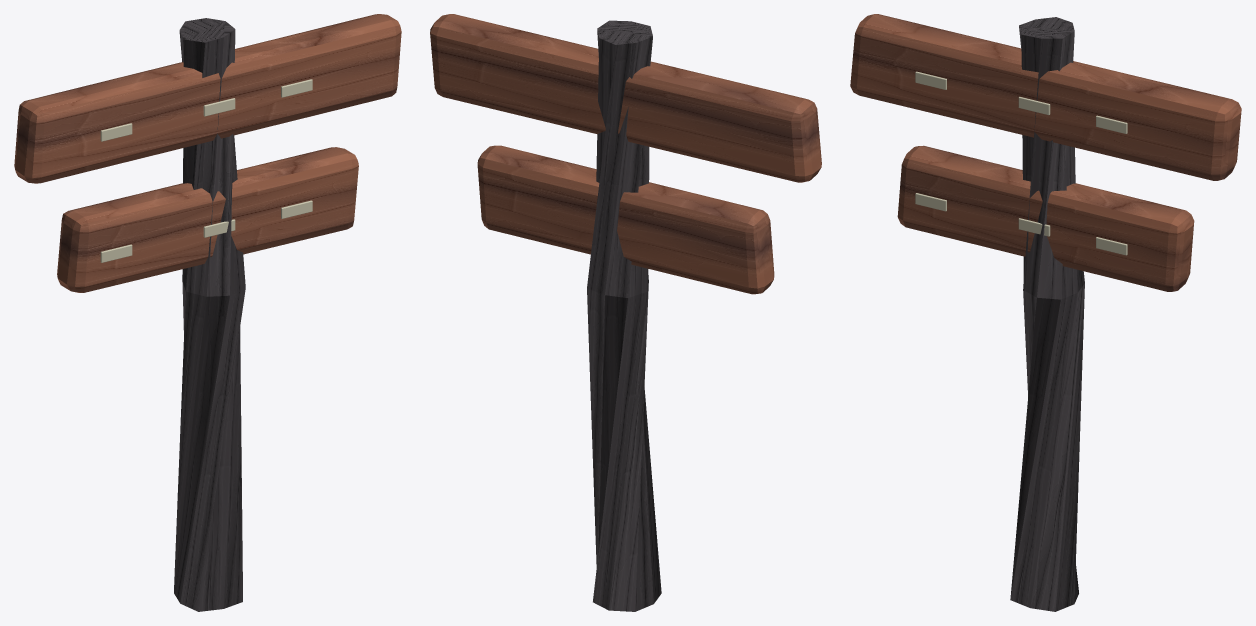
File: Trail_Sign_Barren.glb
3 renders of one model, left to right at view 1: azimuth 30°, elevation 25°; view 2: azimuth 150°, elevation 25°; view 3: azimuth 330°, elevation 25°, orthographic.
Parts seen in each view (by area): view 1: Structure; view 2: Structure; view 3: Structure.
Boxes of the visible parts, <box> form: Structure: <box>14,14,401,611</box>; Structure: <box>430,14,821,611</box>; Structure: <box>850,14,1241,611</box>.
Bounding box in the file's own units: 1.47 × 2.11 × 0.221.
3 materials, 2 textured.
